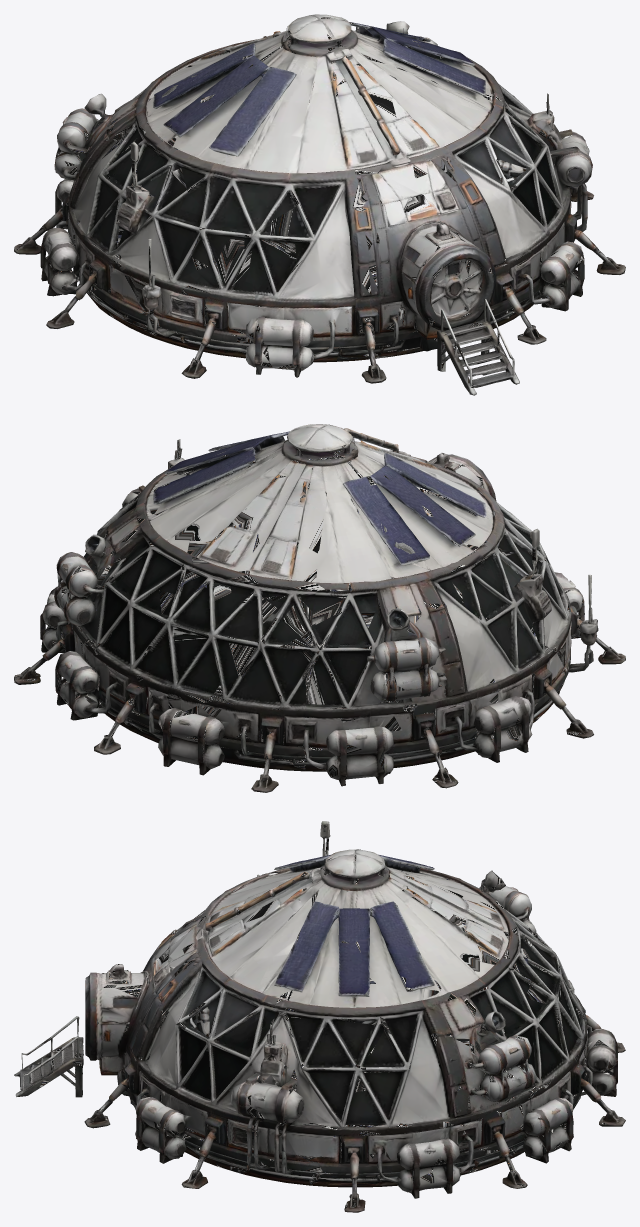
The model's file is circle-building-2.glb.
3 views of the same model, one above another, from view 1: azimuth 30°, elevation 25°; view 2: azimuth 150°, elevation 25°; view 3: azimuth 270°, elevation 25° (orthographic). The views are drawn at different scales.
Visible parts, largest first — view 1: tripo_node_5bfefb00-bcf7-45ba-8974-b2a8d180b9b1; view 2: tripo_node_5bfefb00-bcf7-45ba-8974-b2a8d180b9b1; view 3: tripo_node_5bfefb00-bcf7-45ba-8974-b2a8d180b9b1.
Boxes of the visible parts, x1,y1,x2,y2 form: tripo_node_5bfefb00-bcf7-45ba-8974-b2a8d180b9b1: [14, 14, 625, 395]; tripo_node_5bfefb00-bcf7-45ba-8974-b2a8d180b9b1: [14, 424, 625, 792]; tripo_node_5bfefb00-bcf7-45ba-8974-b2a8d180b9b1: [14, 821, 625, 1212].
Bounding box in the file's own units: 0.9658 × 0.4185 × 0.9811.
Materials: 1 (1 with a texture image).
